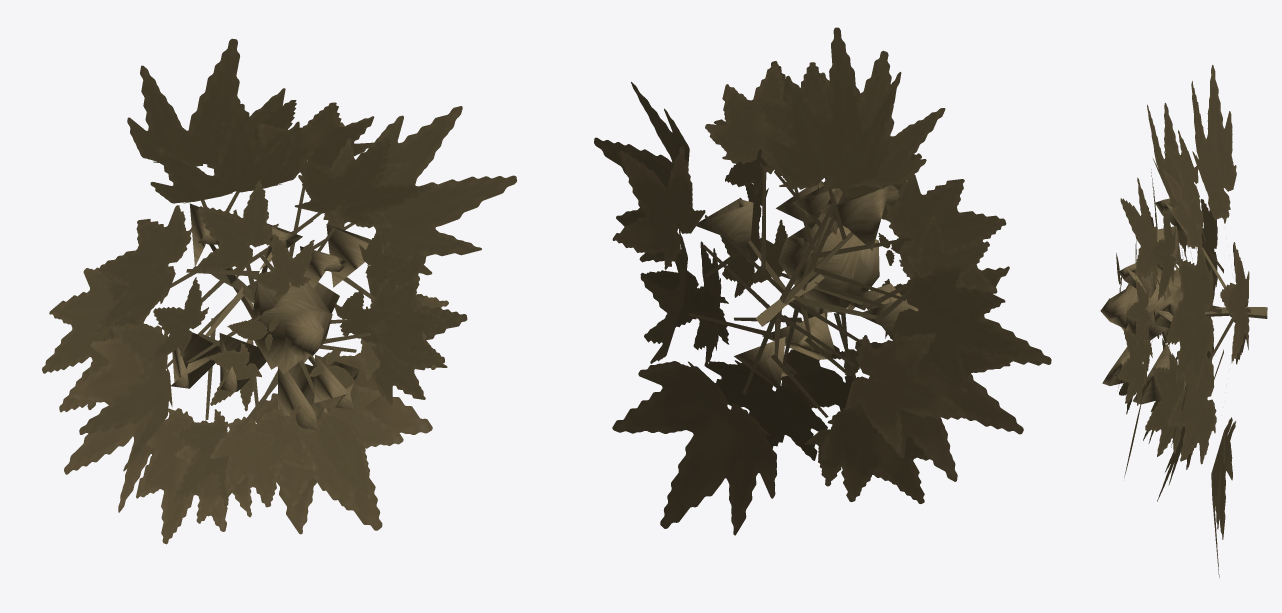
Rendered from p_kush_ripe_c4_cards.obj.
3 renders of one model, left to right at view 1: azimuth 30°, elevation 25°; view 2: azimuth 150°, elevation 25°; view 3: azimuth 270°, elevation 25°, orthographic. The views are drawn at different scales.
Bounding box in the file's own units: 1.27 × 1.51 × 0.448.
1 material, 1 textured.
